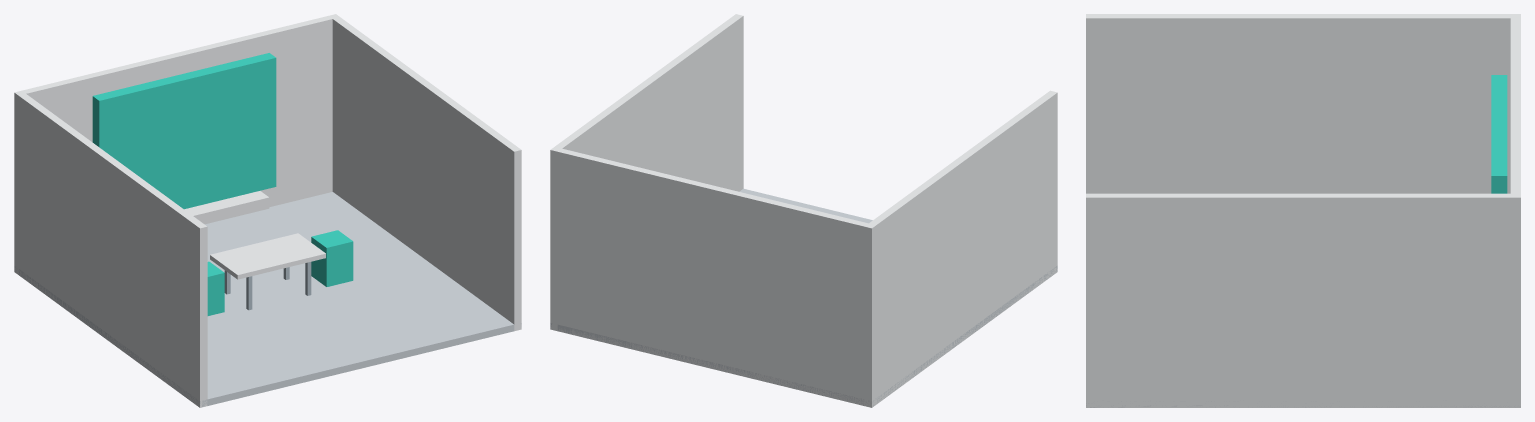
3 renders of one model, left to right at view 1: azimuth 30°, elevation 25°; view 2: azimuth 150°, elevation 25°; view 3: azimuth 270°, elevation 25°, orthographic. The views are drawn at different scales.
Visible parts, largest first — view 1: Exhibition Booth Concept; view 2: Exhibition Booth Concept; view 3: Exhibition Booth Concept.
Part boxes in pixels (left/top/right/bottom): Exhibition Booth Concept: left=14, top=14, right=521, bottom=407; Exhibition Booth Concept: left=550, top=14, right=1057, bottom=407; Exhibition Booth Concept: left=1086, top=14, right=1520, bottom=407.
Size of the model in its own units: 6 by 3.2 by 6.
